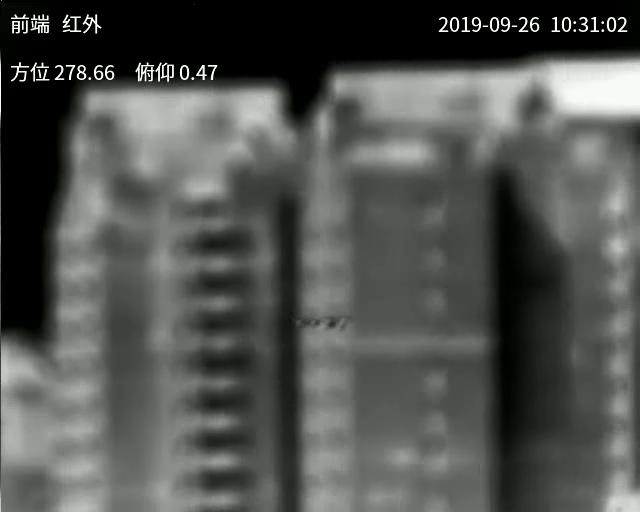uav: (293, 315, 351, 336)
